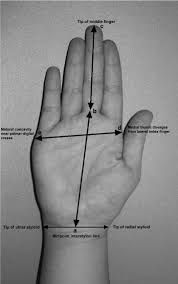palm: (57, 118, 119, 211)
